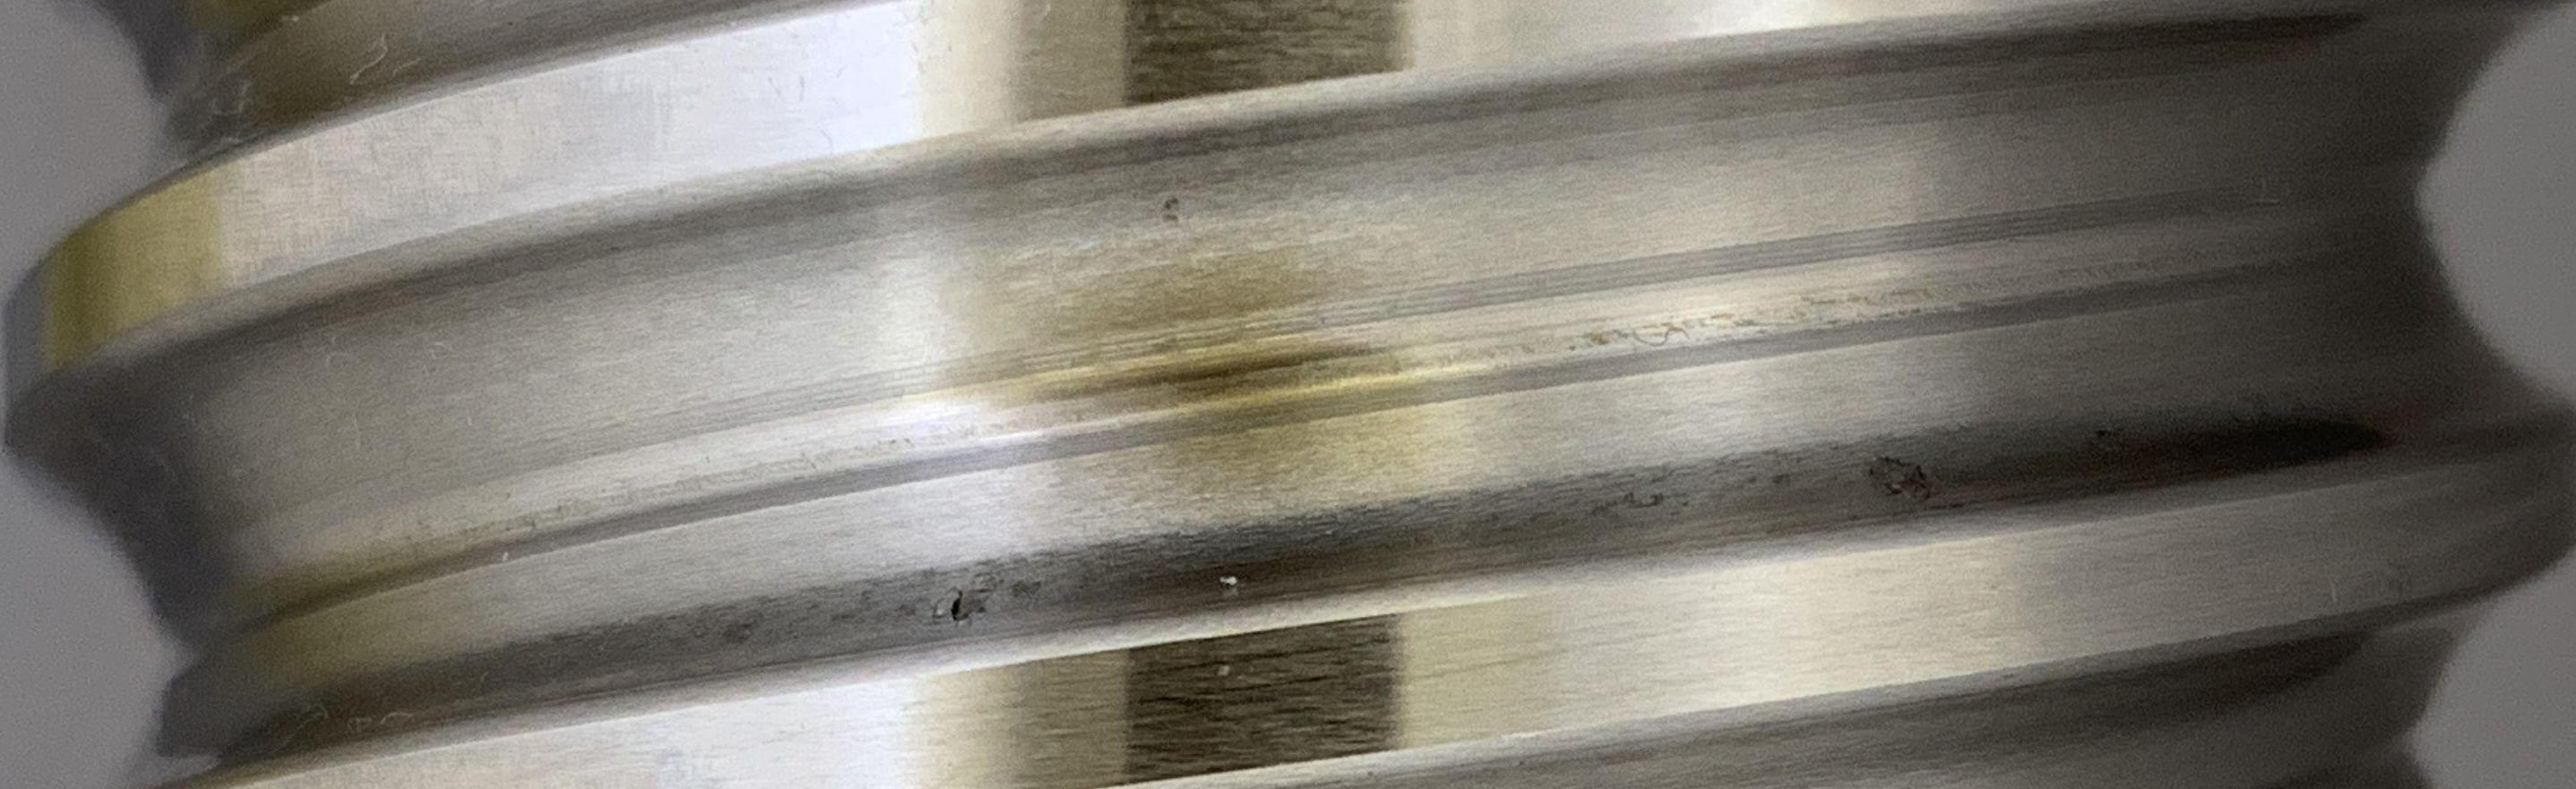pitting: (1870, 455, 1930, 500), (951, 572, 1002, 623)
